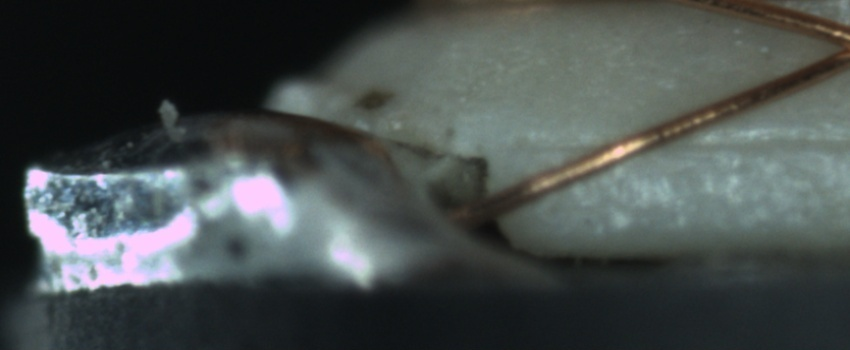DL: (533, 114, 850, 175)
